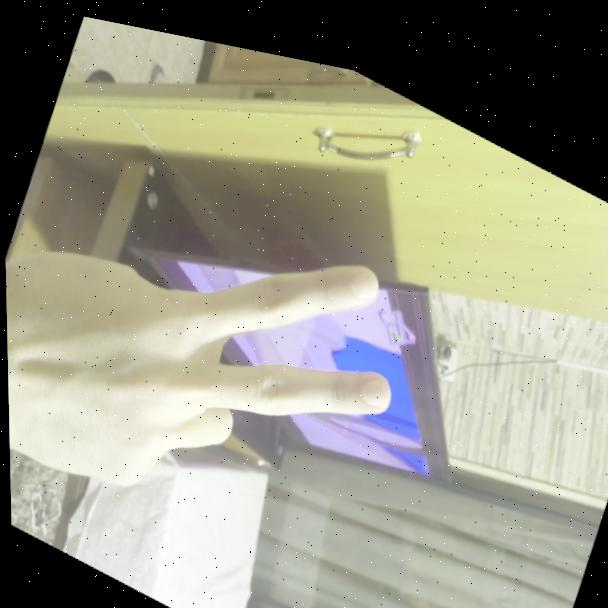two: (10, 121, 431, 597)
